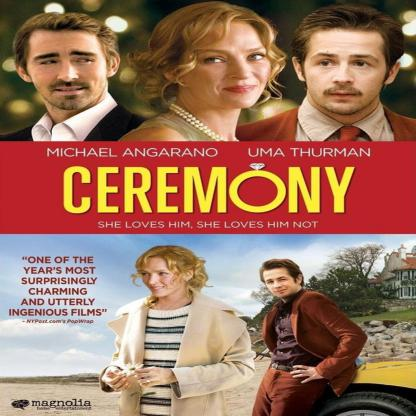face: (182, 35, 271, 108), (28, 38, 107, 110), (311, 41, 384, 115), (138, 264, 182, 298), (265, 269, 297, 298)
